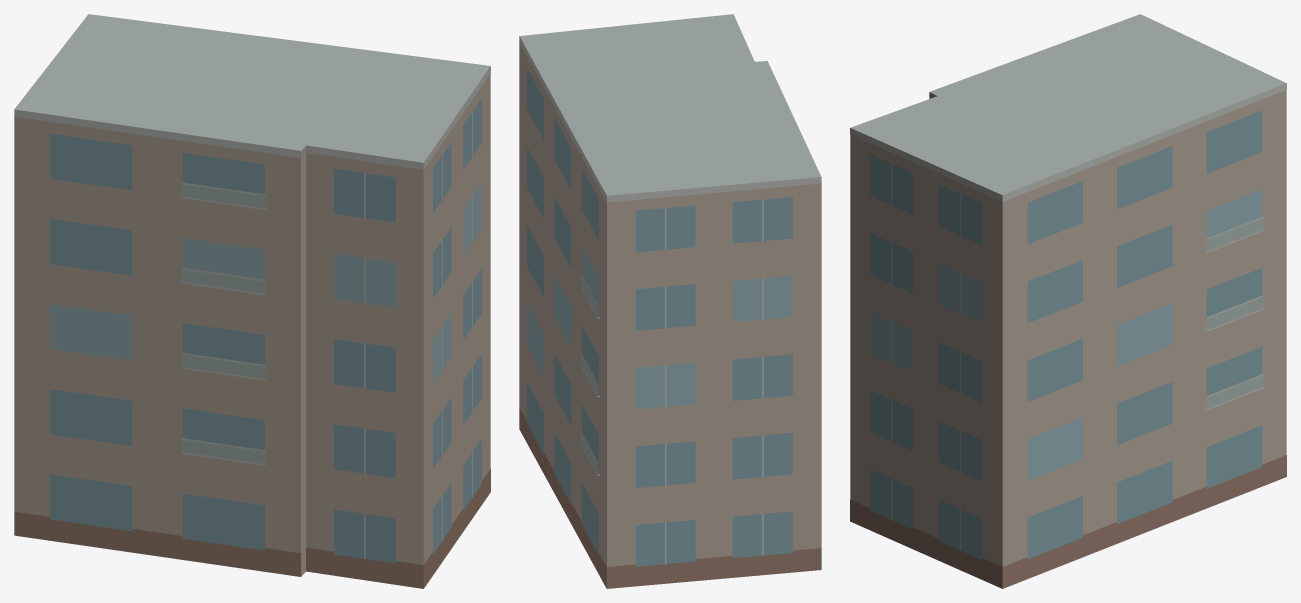
File: survey-upis-32682941.glb
3 renders of one model, left to right at view 1: azimuth 30°, elevation 25°; view 2: azimuth 150°, elevation 25°; view 3: azimuth 270°, elevation 25°, orthographic. The views are drawn at different scales.
Parts seen in each view (by area): view 1: survey-upis-32682941.tmp; view 2: survey-upis-32682941.tmp; view 3: survey-upis-32682941.tmp.
Boxes of the visible parts, x1,y1,x2,y2 form: survey-upis-32682941.tmp: (14, 14, 490, 588); survey-upis-32682941.tmp: (519, 14, 821, 588); survey-upis-32682941.tmp: (850, 14, 1286, 588).
Size of the model in its own units: 14.33 by 14.5 by 14.58.
